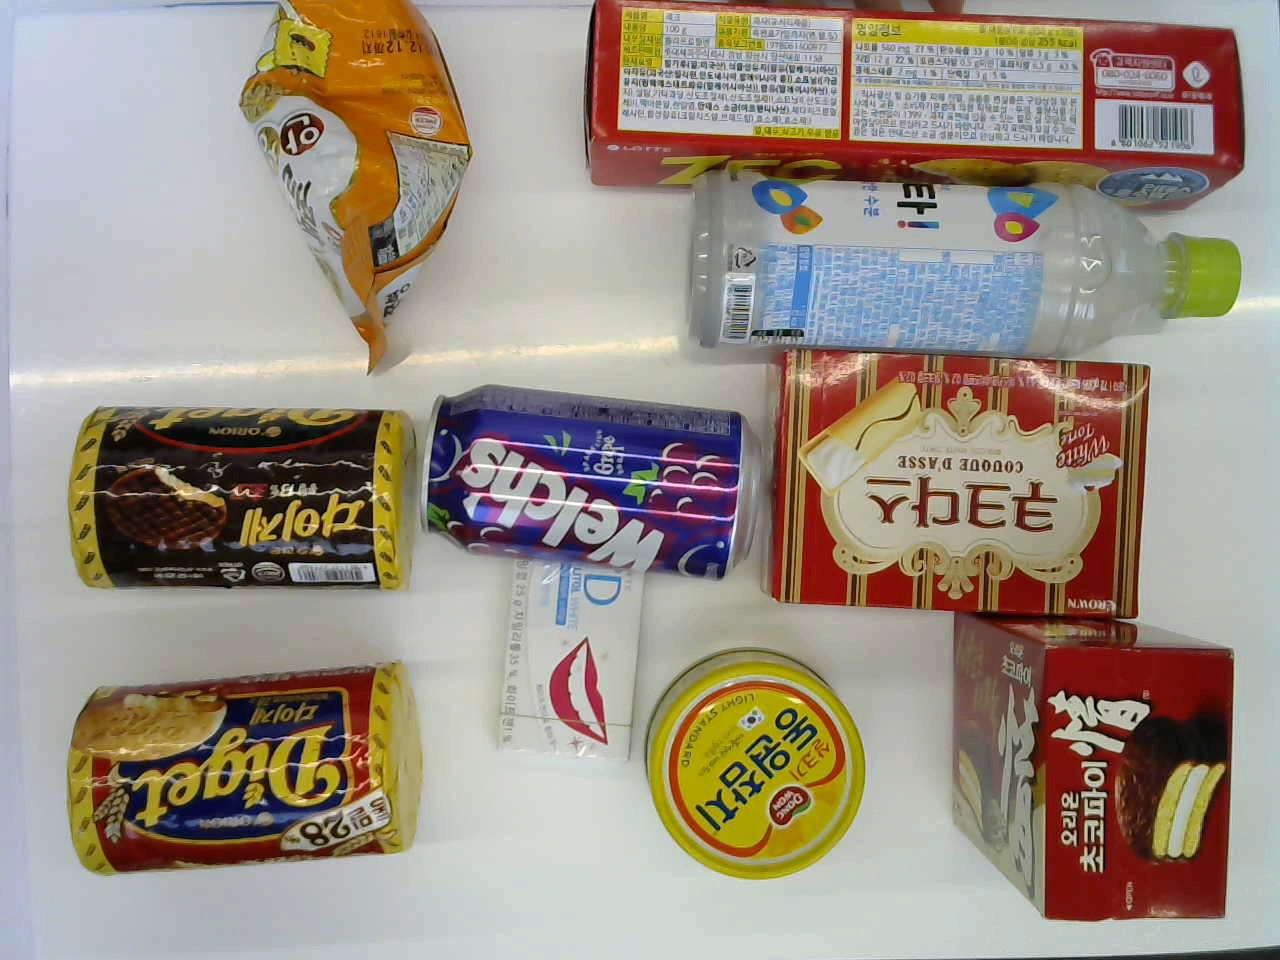ID_gum: (490, 554, 651, 764)
chocopie: (954, 618, 1234, 921)
couque_white: (769, 343, 1154, 619)
diget_choco: (65, 399, 418, 598)
diget_ori: (71, 662, 422, 879)
jjolbyung_noodle: (233, 0, 480, 370)
toreta: (687, 158, 1245, 358)
tuna: (641, 650, 869, 878)
welchs: (423, 379, 759, 581)
zec: (571, 0, 1243, 206)
